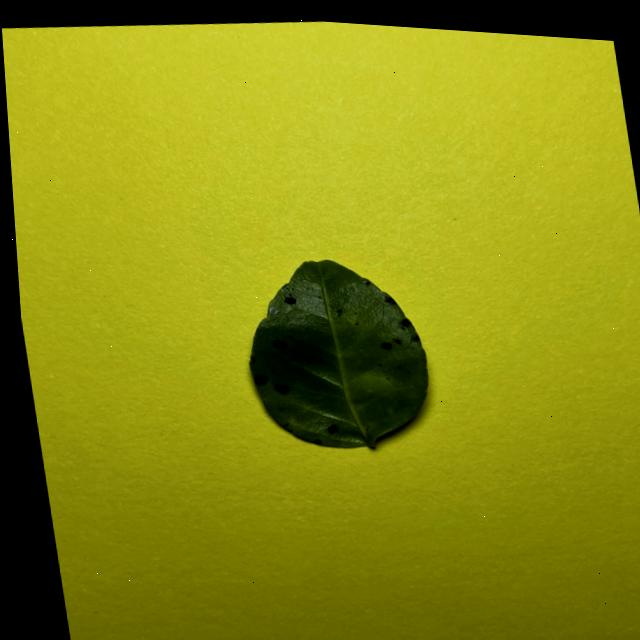sooty_mold: (248, 259, 426, 446)
